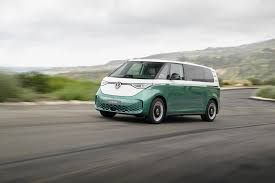bus: (93, 58, 222, 124)
